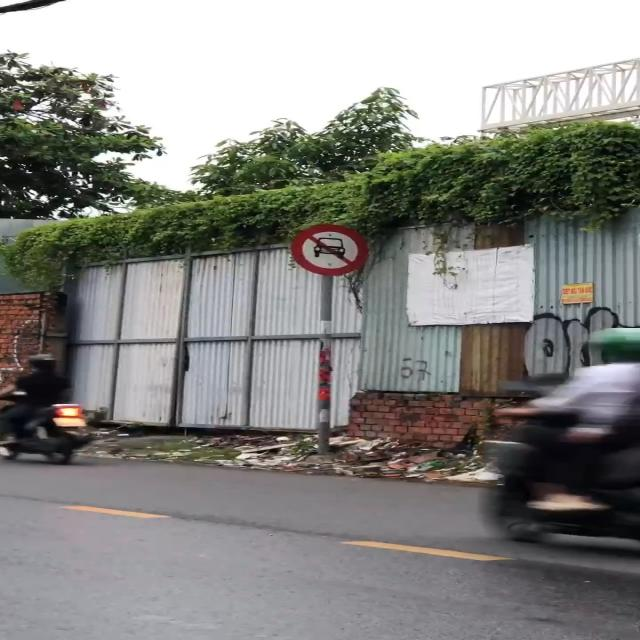Bien bao cam xe oto: (286, 219, 373, 275)
